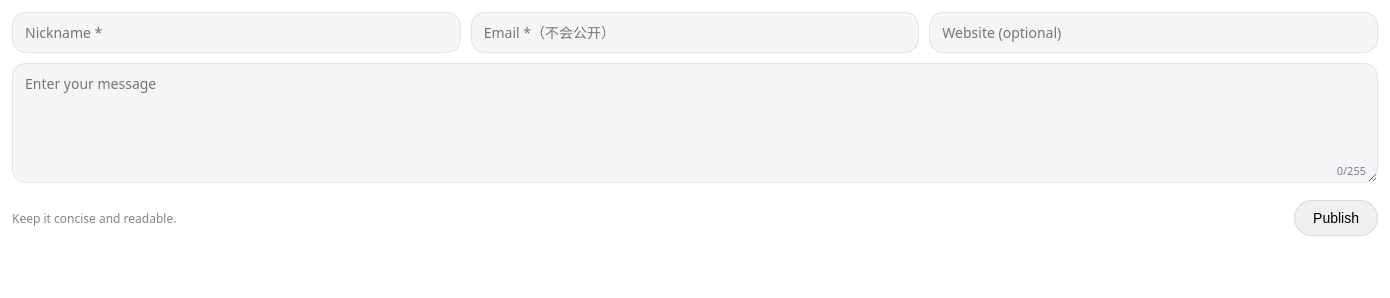
it: CommentForm › shows the server message on 403
This screenshot has width=1390, height=298.
Type "访客" into the field named "昵称" at (236, 32), box [12,12,461,53]
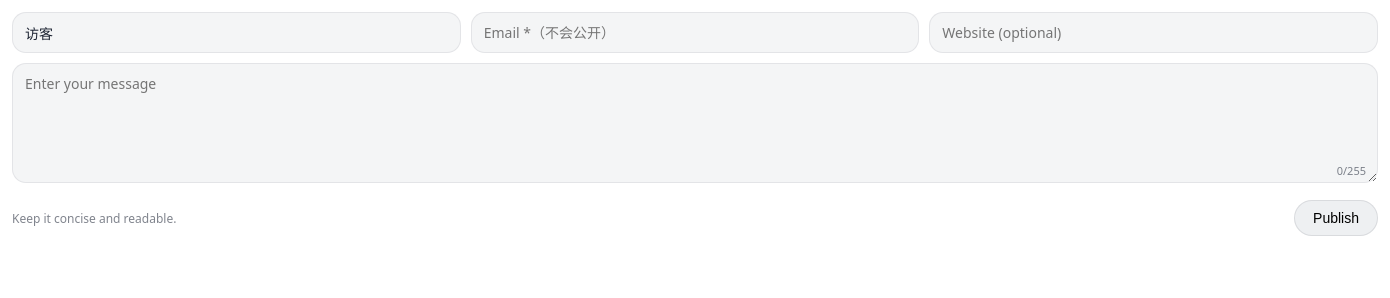
Type "a@example.com" into the field named "邮箱" at (695, 32), box [471,12,919,53]
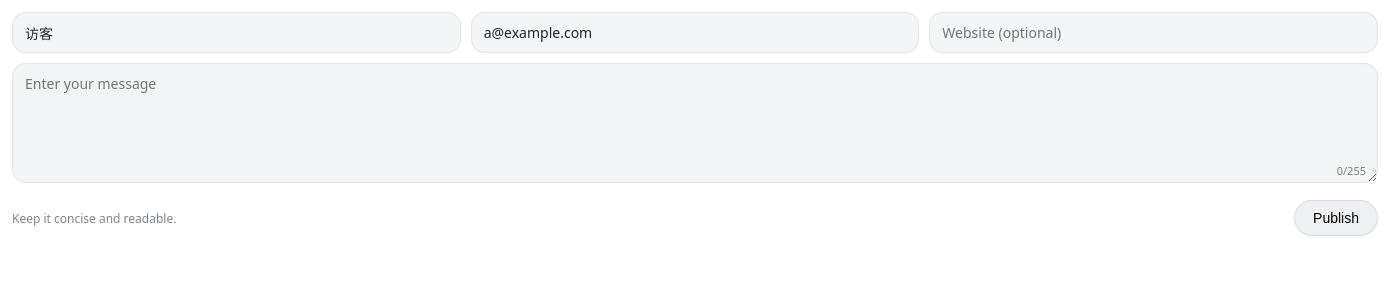
Type "写得好" into the text box named "内容" at (695, 123), box [12,63,1378,183]
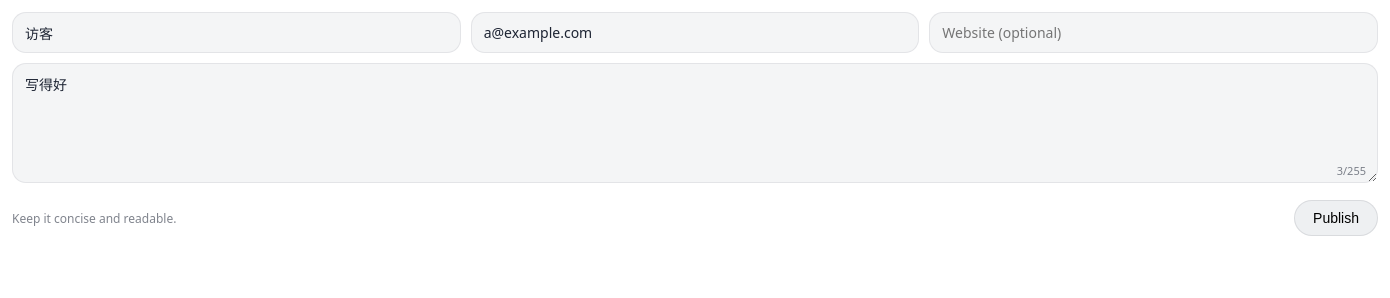
Click the button "Publish" at (1336, 218), box [1294,200,1378,236]
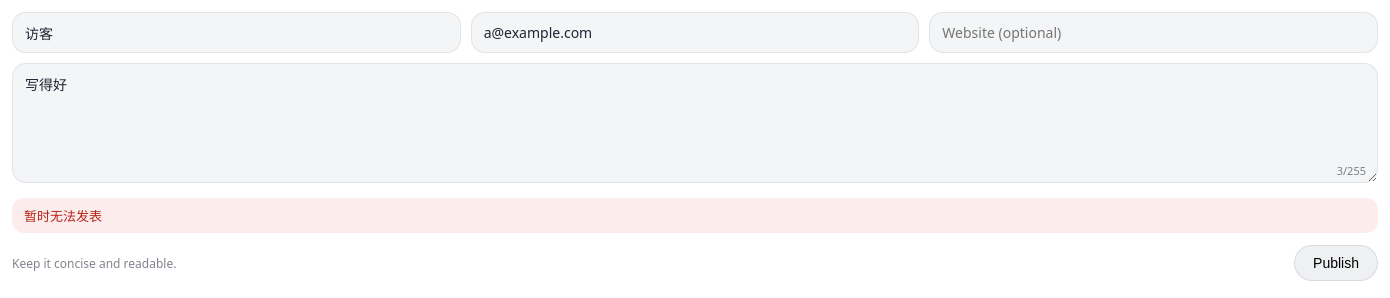
Check: the message reads "暂时无法发表", box [24,207,102,225]
